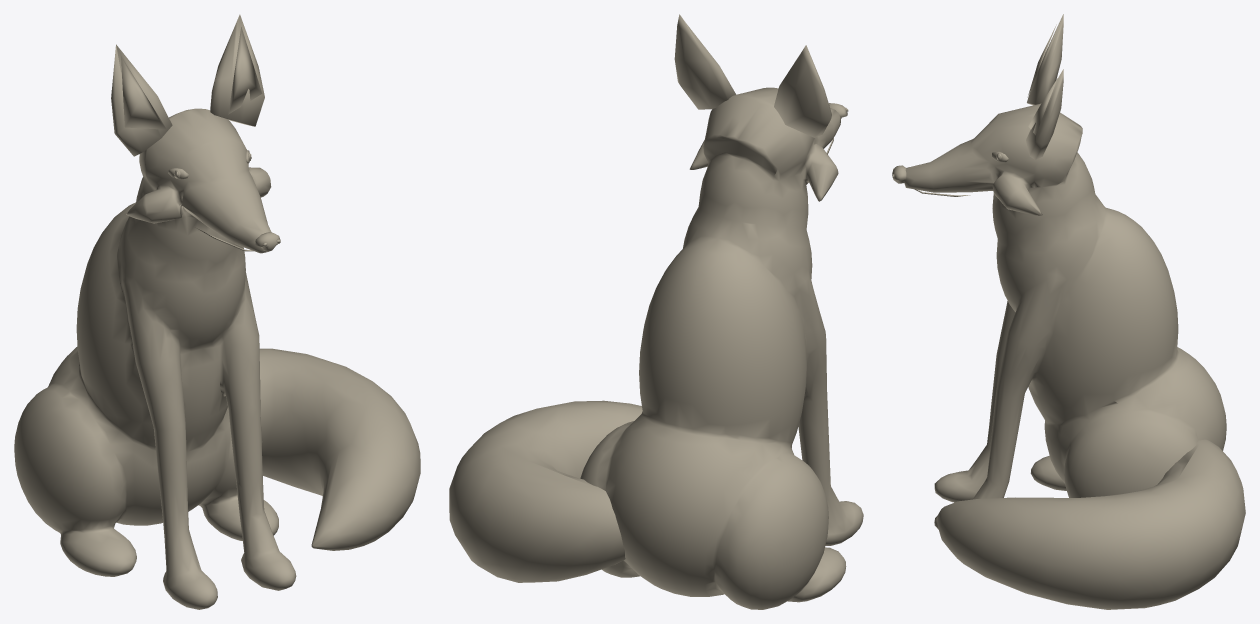
The model's file is SM_Fox_Stone.fbx.
The picture shows the model from 3 angles, left to right: view 1: azimuth 30°, elevation 25°; view 2: azimuth 150°, elevation 25°; view 3: azimuth 270°, elevation 25°; orthographic projection. The views are drawn at different scales.
Visible parts, largest first — view 1: SM_Fox_Stone_Mesh; view 2: SM_Fox_Stone_Mesh; view 3: SM_Fox_Stone_Mesh.
Part boxes in pixels (x1=…): SM_Fox_Stone_Mesh: x1=14, y1=14, x2=420, y2=609; SM_Fox_Stone_Mesh: x1=449, y1=14, x2=863, y2=609; SM_Fox_Stone_Mesh: x1=892, y1=14, x2=1245, y2=609.
Bounding box in the file's own units: 64.12 × 61.74 × 92.84.
